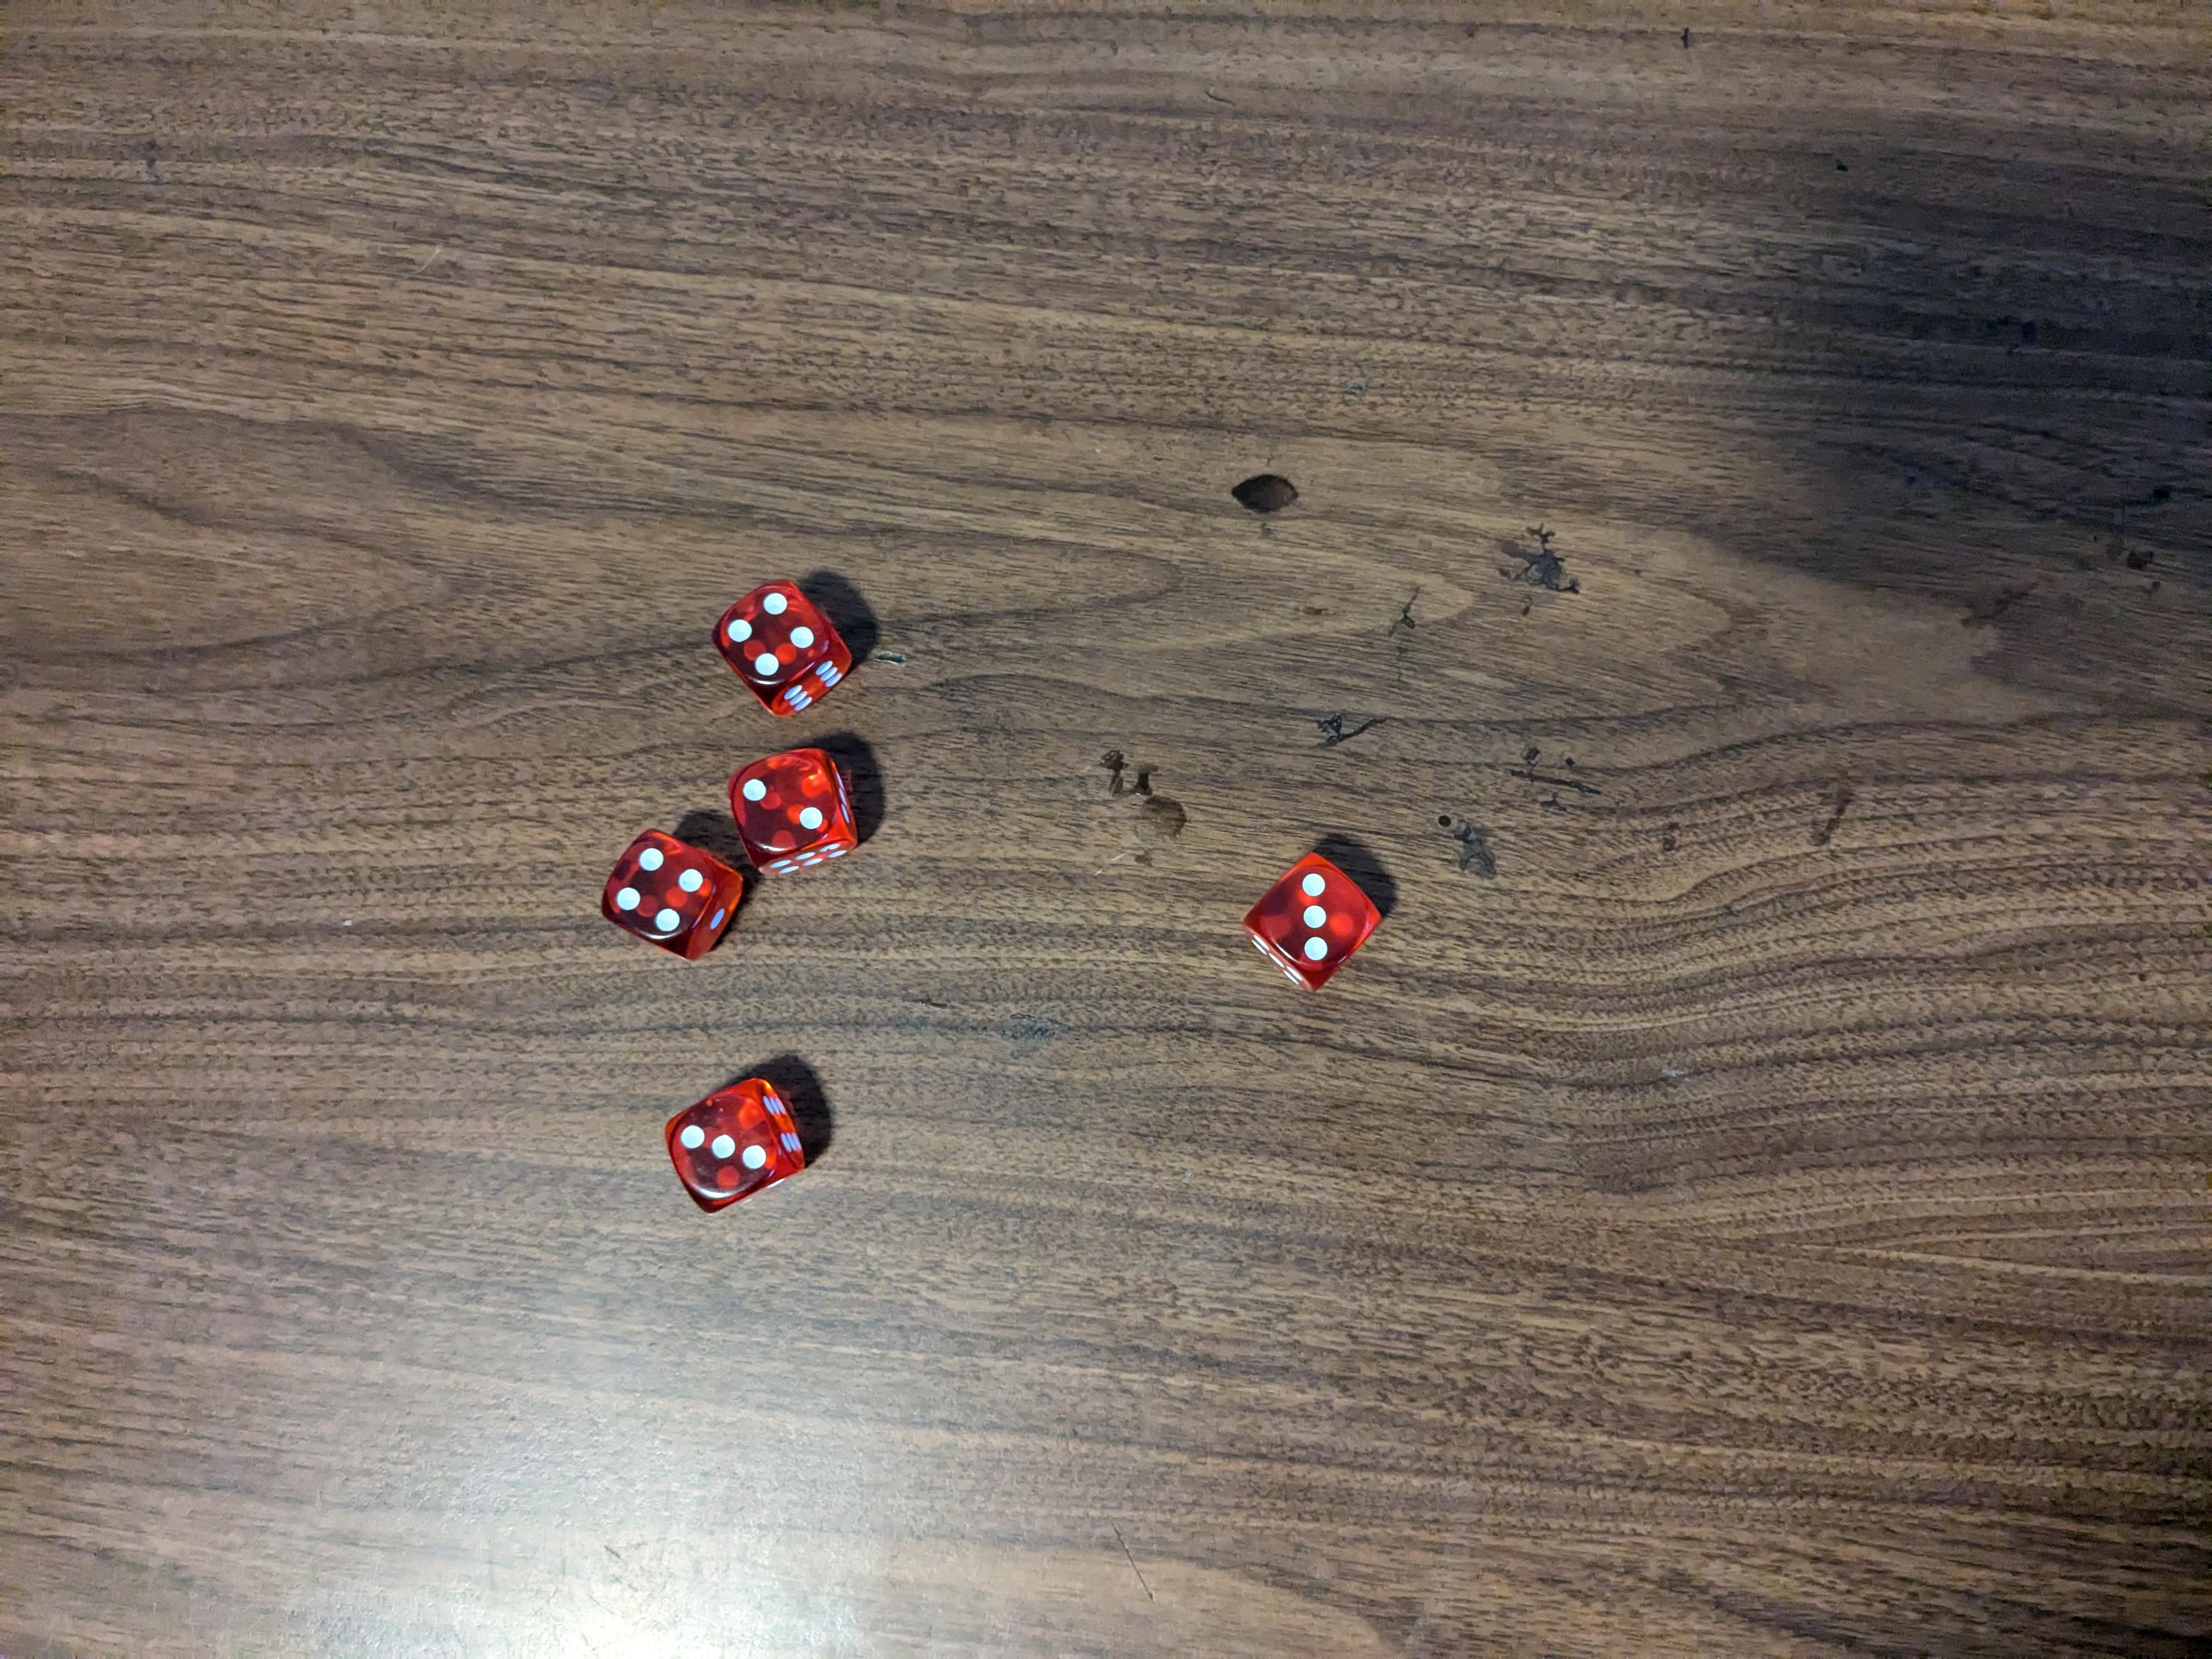four: (711, 573, 860, 718), (601, 826, 747, 962)
three: (664, 1079, 808, 1216), (1247, 857, 1379, 993)
two: (728, 751, 864, 877)
